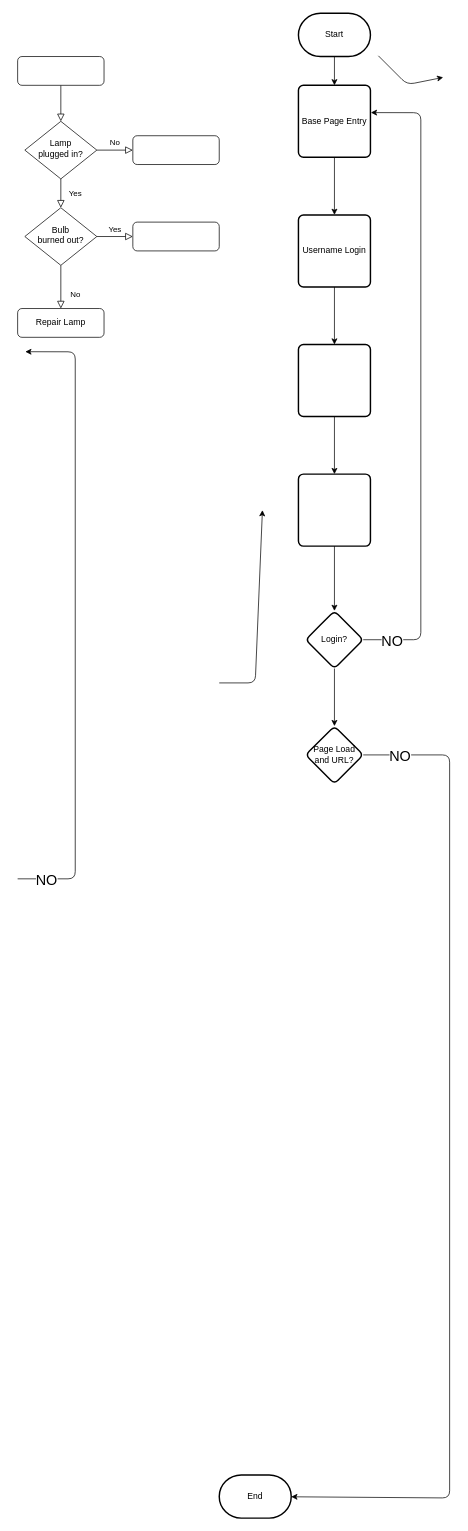
This 468x1531 diagram has some shape labels left out. The centre of each missing label's shape, as x and y in pixels:
Lamp doesn't work: the point at 60,70
Password Login: the point at 334,380
Plug in lamp: the point at 175,150
Replace Bulb: the point at 175,236
Submit button: the point at 334,509
